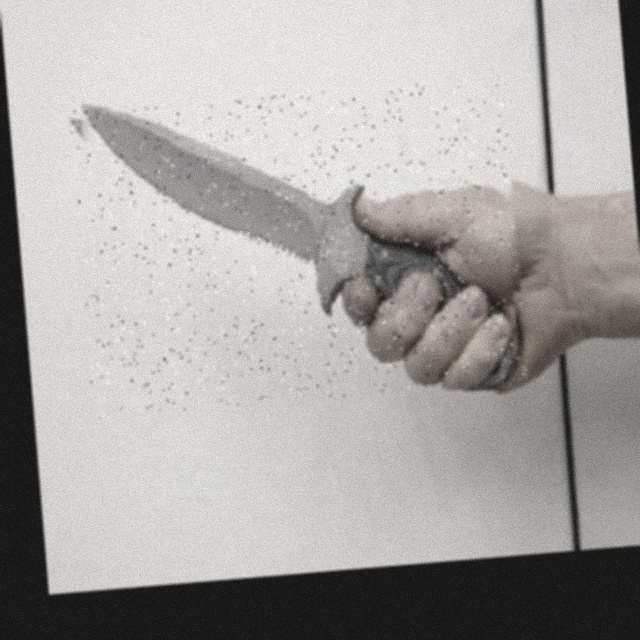Sharp-Object: (67, 76, 528, 417)
